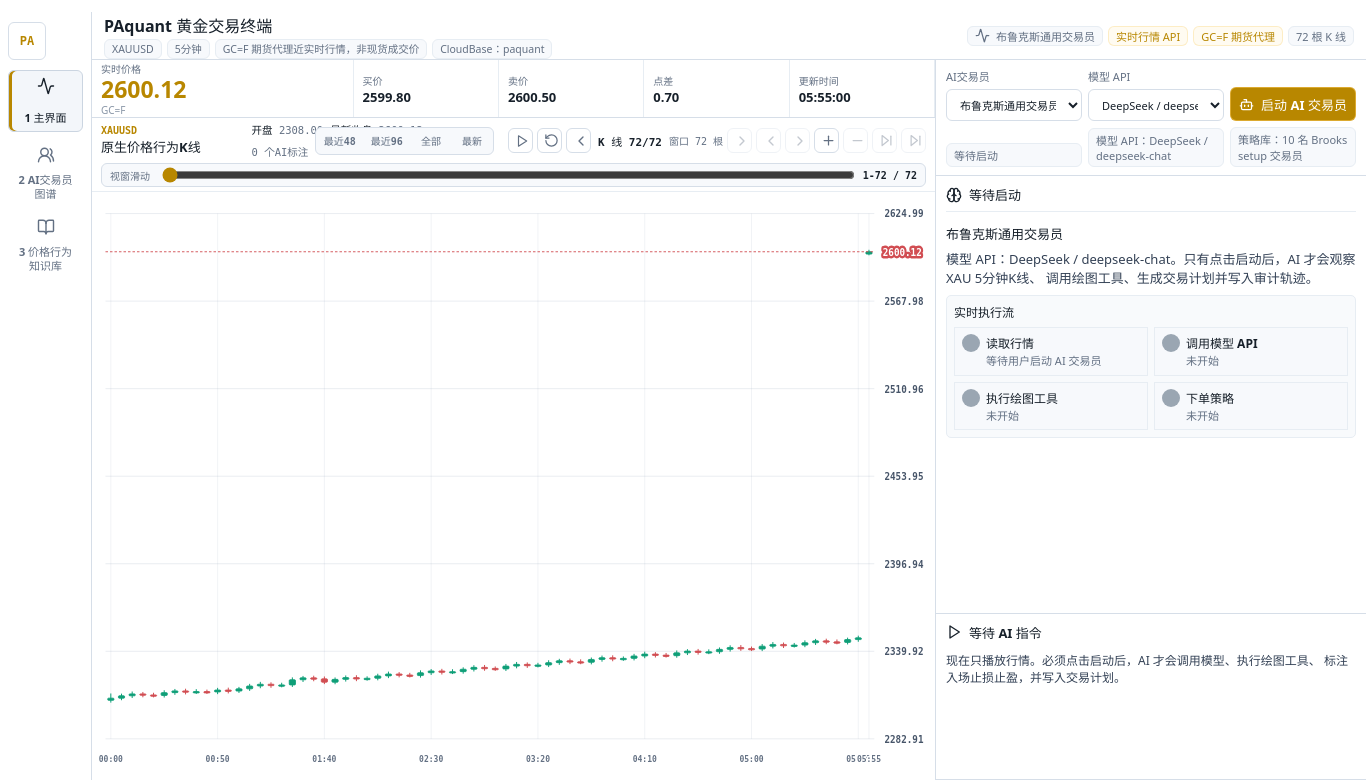
Scenario: AI 运行结果不会把当前实时K线替换回演示行情
Expected: the text "2600.12" is shown, [378,124,423,136]
Click the button with class "stream-toggle" at (520, 140), box [508,128,533,153]
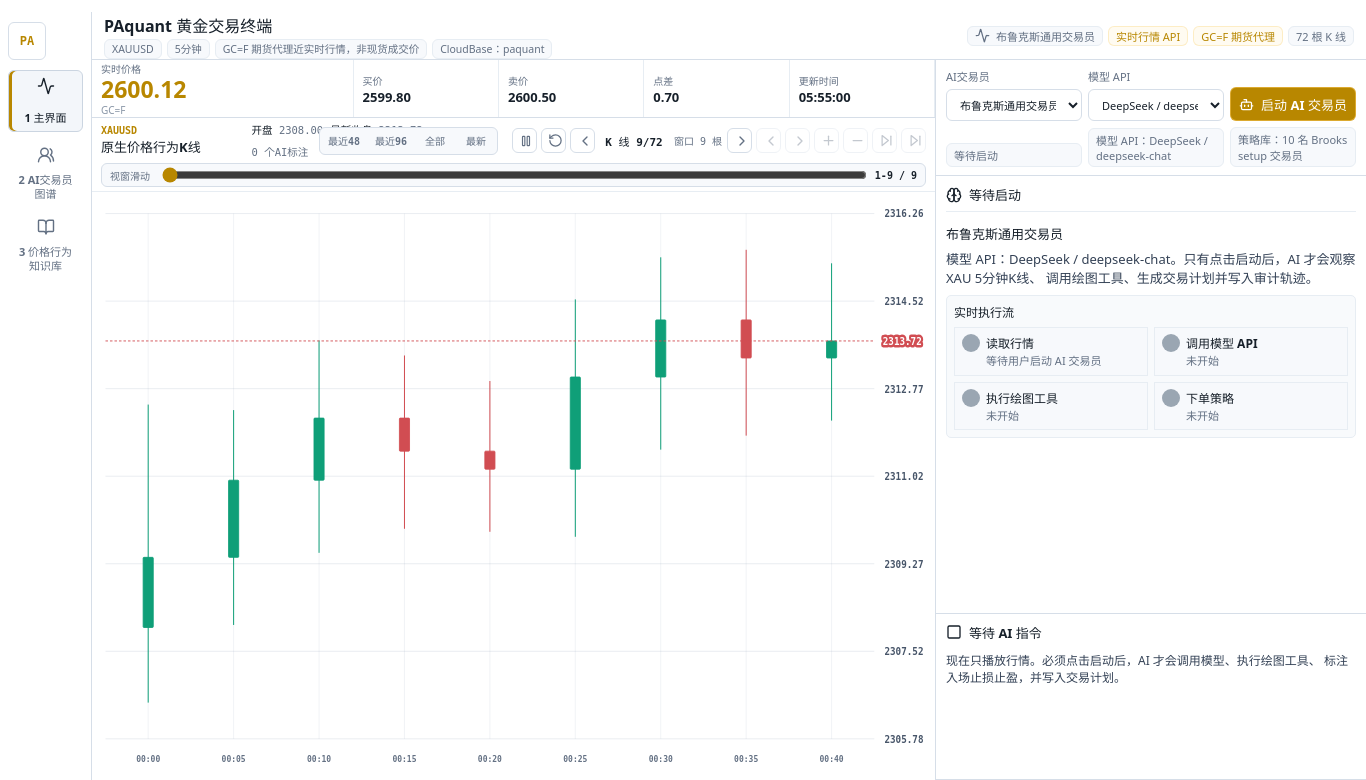
Click the button "启动 AI 交易员" at (1293, 104), box [1230,87,1356,121]
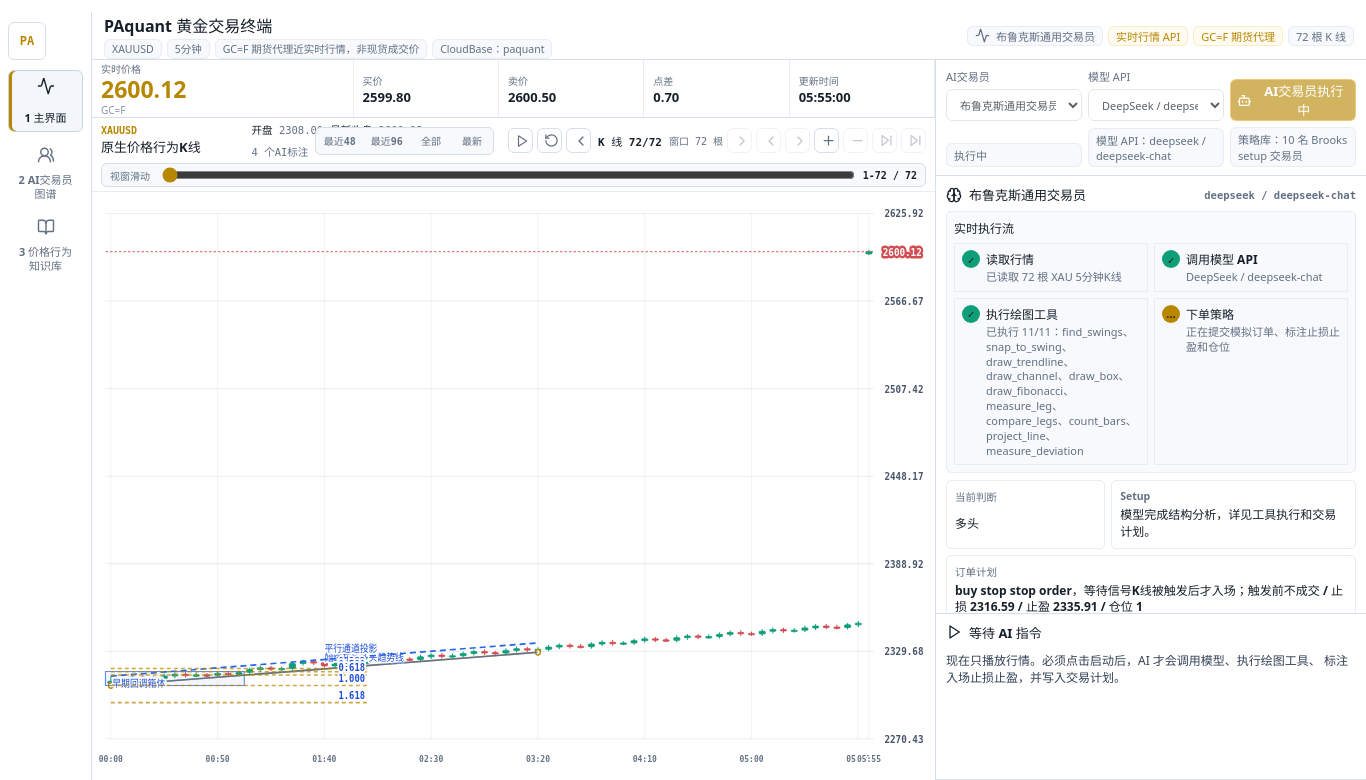
Now the text "正在提交模拟订单、标注止损止盈和仓位" is shown, box [1186,325,1340,355]
Now the text "2600.12" is shown, box [378,124,423,136]
